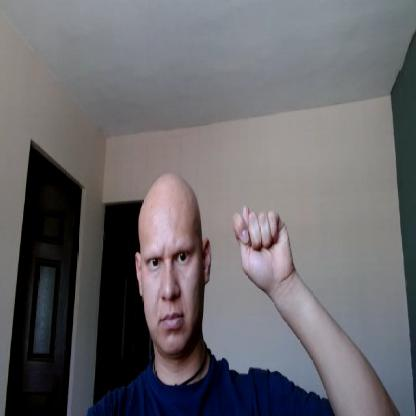T: (233, 204, 294, 286)
